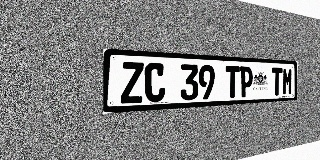3: (181, 64, 198, 101)
9: (199, 65, 215, 100)
C: (145, 62, 165, 102)
M: (282, 68, 293, 95)
P: (240, 66, 253, 97)
T: (225, 66, 240, 98), (272, 67, 282, 96)
Z: (121, 62, 144, 104)
